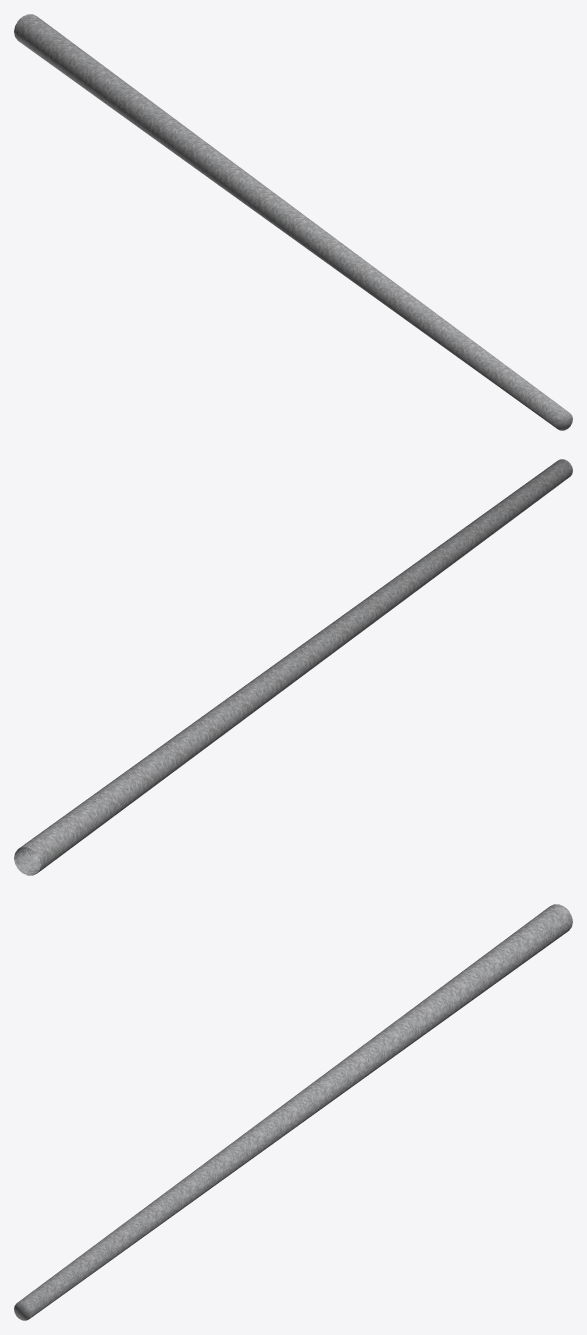
File: Stahl_4000.obj
3 views of the same model, one above another, from view 1: azimuth 30°, elevation 25°; view 2: azimuth 150°, elevation 25°; view 3: azimuth 330°, elevation 25° (orthographic).
Visible parts, largest first — view 1: Mast_4,0m_Metalogalva.001_Mast_4,0m_Metalogalva.002; view 2: Mast_4,0m_Metalogalva.001_Mast_4,0m_Metalogalva.002; view 3: Mast_4,0m_Metalogalva.001_Mast_4,0m_Metalogalva.002.
Boxes of the visible parts, box(x1,y1,x2,y2) form: Mast_4,0m_Metalogalva.001_Mast_4,0m_Metalogalva.002: box(14, 14, 572, 430); Mast_4,0m_Metalogalva.001_Mast_4,0m_Metalogalva.002: box(14, 459, 572, 875); Mast_4,0m_Metalogalva.001_Mast_4,0m_Metalogalva.002: box(14, 904, 572, 1320).
Bounding box in the file's own units: 0.116 × 0.116 × 4.
